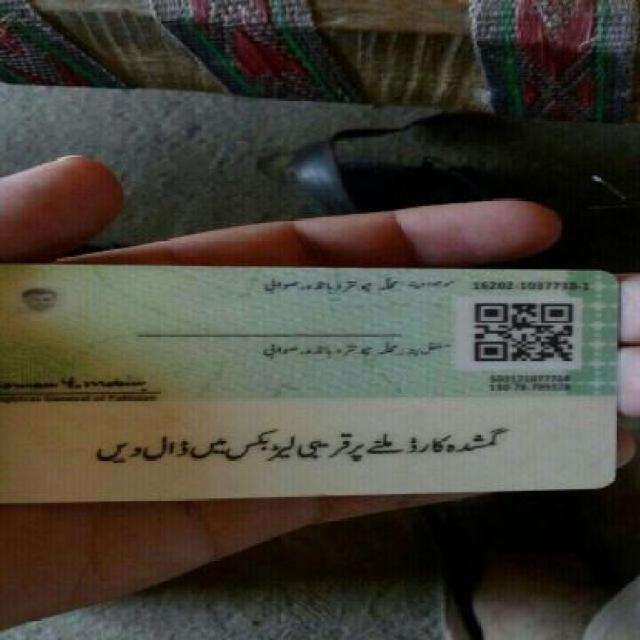Back: (3, 256, 629, 504)
